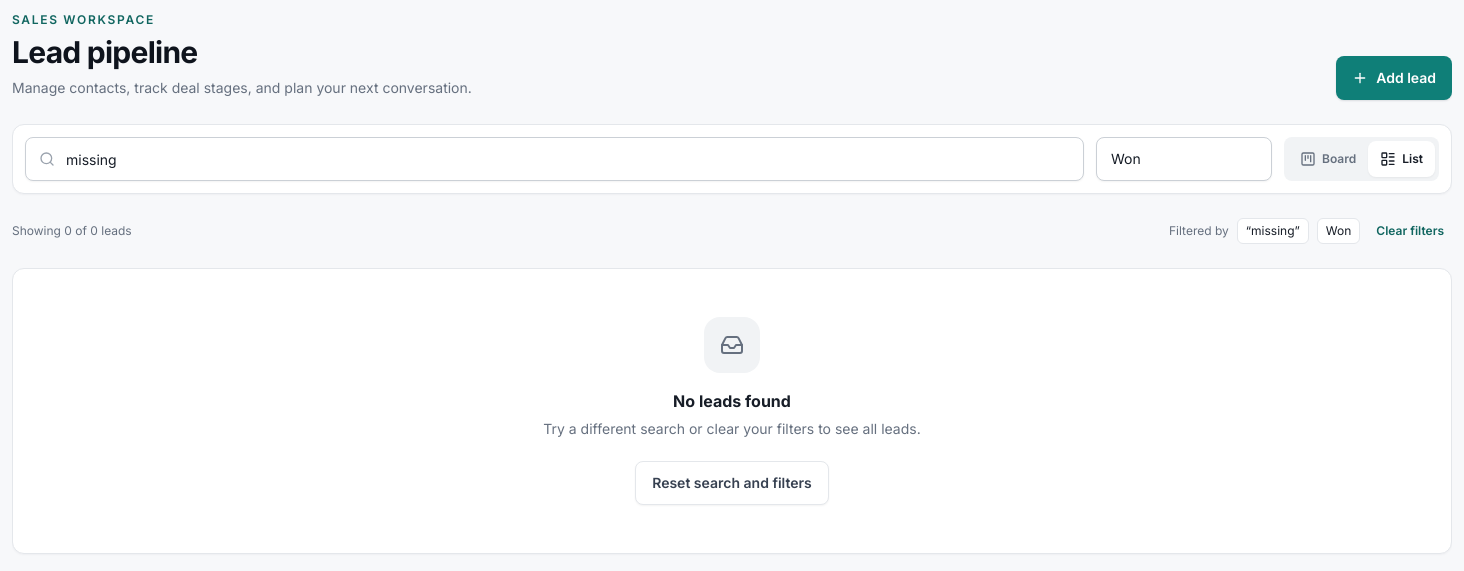
Test: lead workspace filters › clears empty-result filters and returns to the first page
The image size is (1464, 571).
Click the button "Reset search and filters" at (732, 483), box [635,461,829,505]
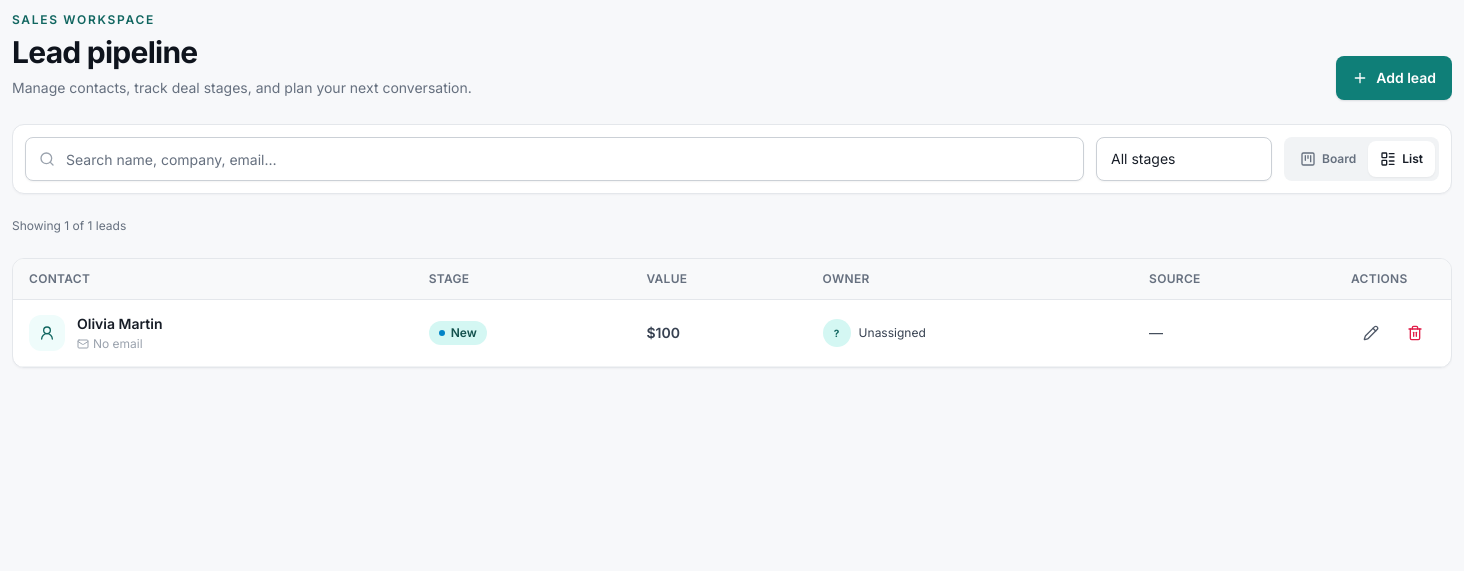
Now the search field is empty, box [25,137,1084,181]
Now the dropdown named "Filter by stage" shows "All stages", box [1096,137,1272,181]
Now the text "Olivia Martin" is shown, box [77,314,162,334]
